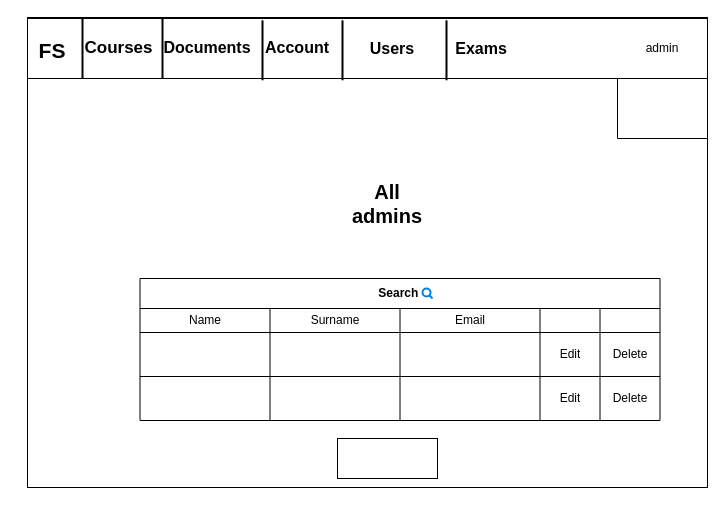
Some shapes in this 725 by 505 pixel diagram are drawn without their labels. Here are the shapes that lost their labels. From the top down, the centre of each, then its label:
At point (662, 108): "Logout".
At point (387, 458): "Add admin".
